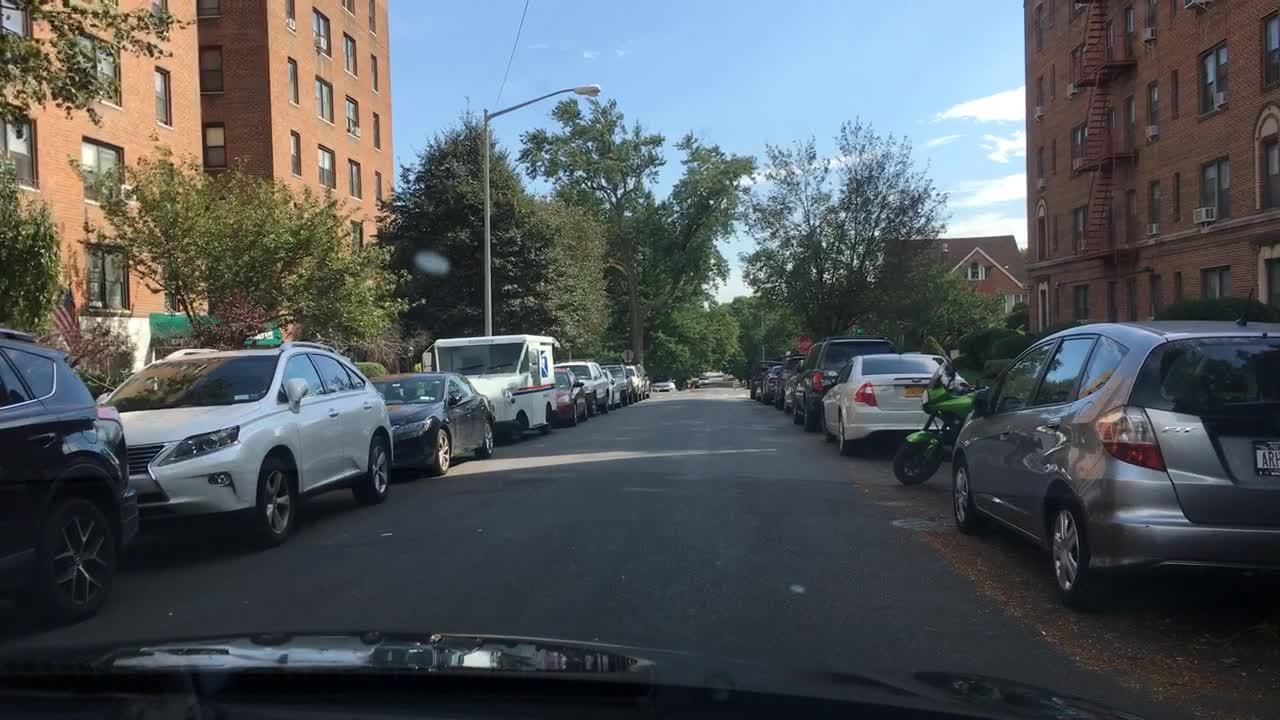car: (945, 317, 1277, 602), (96, 341, 389, 548), (0, 331, 131, 624), (818, 352, 970, 454), (422, 332, 554, 442), (365, 371, 496, 474), (790, 334, 899, 433), (555, 363, 611, 416), (546, 368, 590, 427), (771, 352, 808, 410), (601, 364, 636, 405), (760, 364, 783, 401), (597, 369, 618, 409), (625, 365, 646, 401), (748, 366, 768, 400), (636, 363, 652, 396), (652, 380, 674, 393), (688, 377, 699, 388), (698, 374, 710, 383)
motor: (890, 352, 985, 488)
